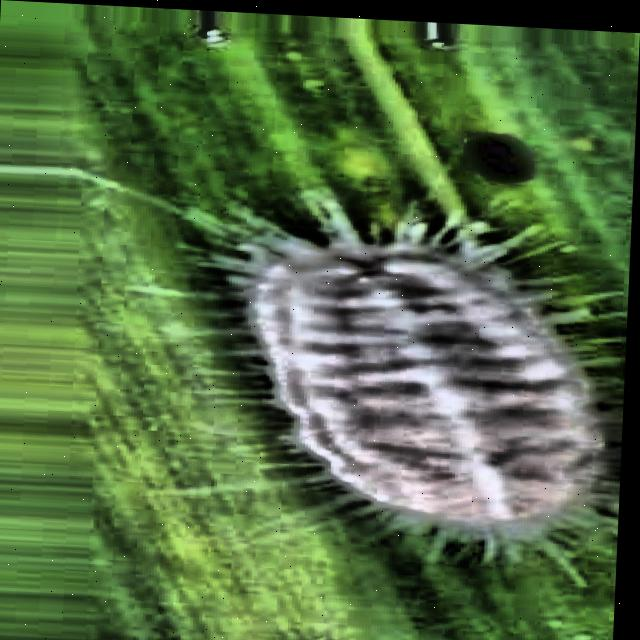Mealy-bug: (167, 163, 635, 595)
